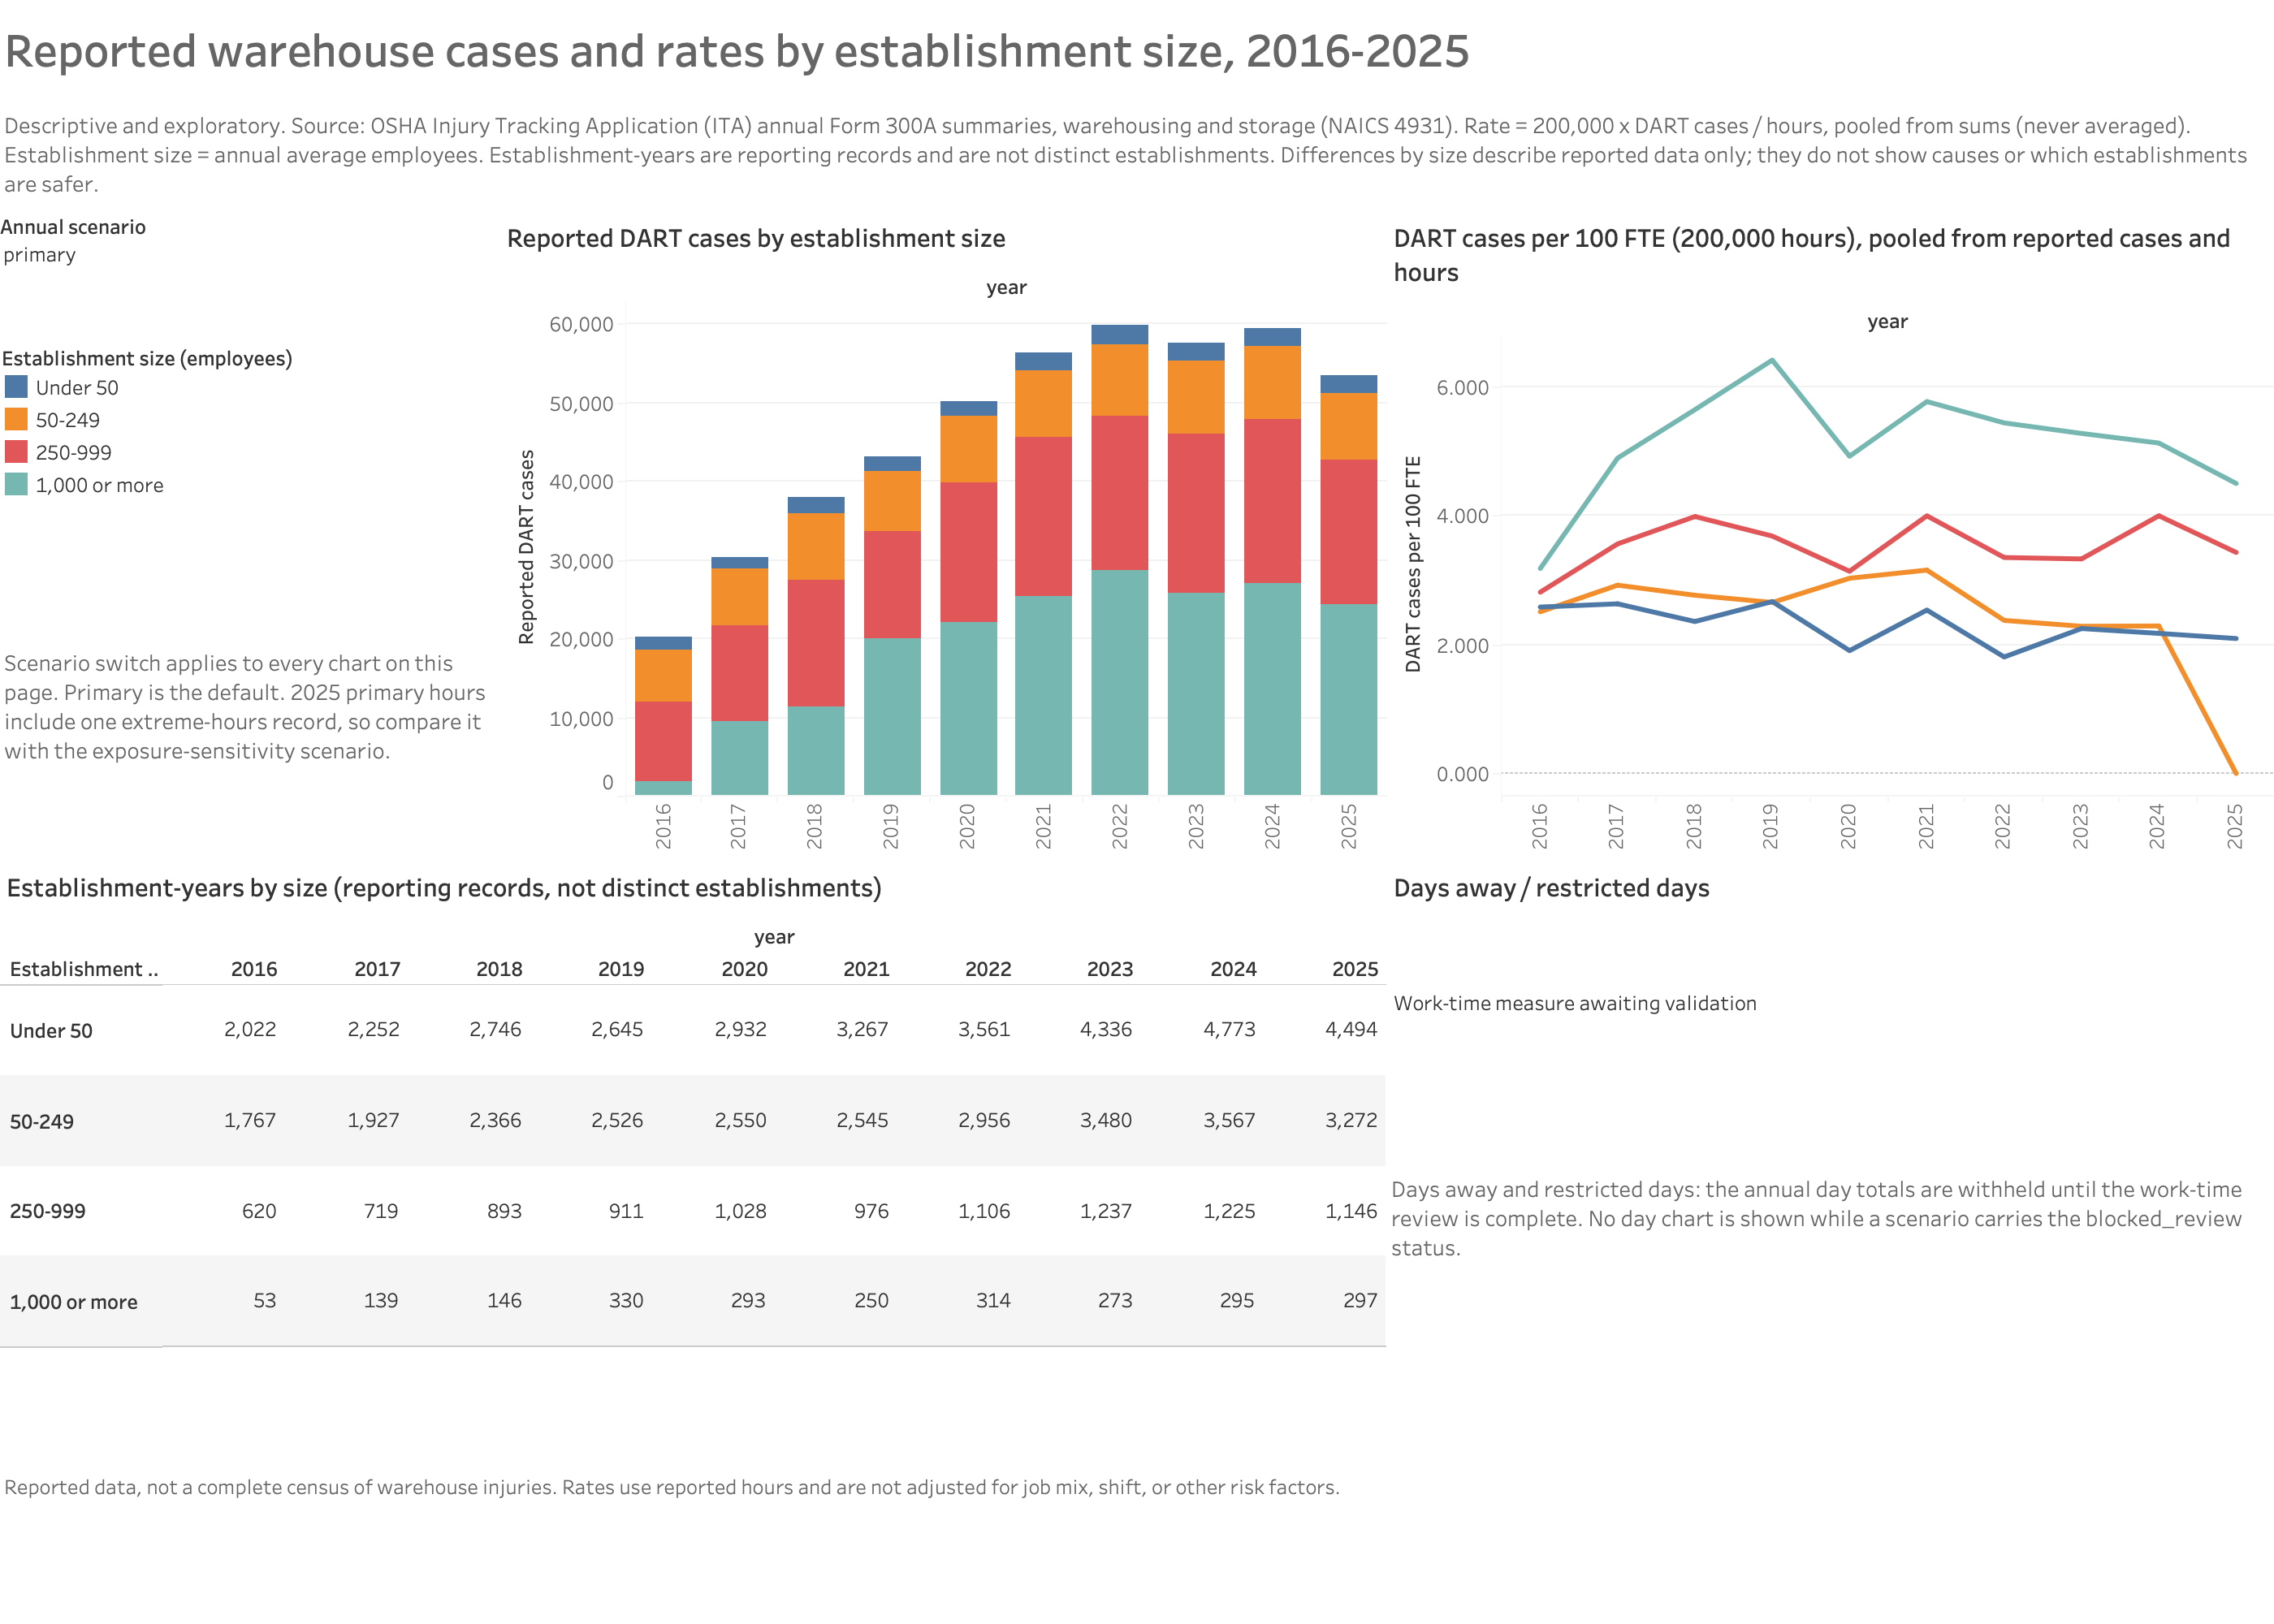

The page's visual inventory and layout, read from the dashboard file:
{"tool":"tableau","page":{"name":"Annual dashboard","canvas":[1400,1000],"ordinal":0},"visuals":[{"type":"text","box":[0,0,1400,60]},{"type":"text","box":[0,60,1400,70]},{"type":"parameter","param":"[Parameters].[Parameter 1]","box":[0,130,308,80]},{"type":"worksheet","title":"Annual cases by size","mark":"Bar","rows":["Calculation_1100000000000003"],"cols":["year"],"box":[308,130,546,400]},{"type":"worksheet","title":"Annual rates by size","mark":"Line","rows":["Calculation_1100000000000004"],"cols":["year"],"box":[854,130,546,400]},{"type":"legend","title":"Annual cases by size","param":"[federated.1rxrgdq1t0yllh102evw9053jy3g].[none:Calculation_1100000000000002:nk]","box":[0,210,308,140]},{"type":"text","box":[0,350,308,170]},{"type":"worksheet","title":"Annual denominators","mark":"Text","rows":["Calculation_1100000000000002"],"cols":["year"],"box":[0,530,854,300]},{"type":"worksheet","title":"Annual days gate","mark":"Text","box":[854,530,546,140]},{"type":"text","box":[854,670,546,160]},{"type":"text","box":[0,830,1400,170]}]}

Visuals, with their boxes in screenshot pixels (x1, y1, x2, y2), scaled from the page's 1400x1000 canvas onto the 2274x1624 screenshot:
text: 0, 0, 2273, 97
text: 0, 97, 2273, 211
parameter: 0, 211, 500, 341
"Annual cases by size" worksheet (Bar marks): 500, 211, 1387, 861
"Annual rates by size" worksheet (Line marks): 1387, 211, 2273, 861
"Annual cases by size" legend: 0, 341, 500, 568
text: 0, 568, 500, 844
"Annual denominators" worksheet (Text marks): 0, 861, 1387, 1348
"Annual days gate" worksheet (Text marks): 1387, 861, 2273, 1088
text: 1387, 1088, 2273, 1348
text: 0, 1348, 2273, 1623
